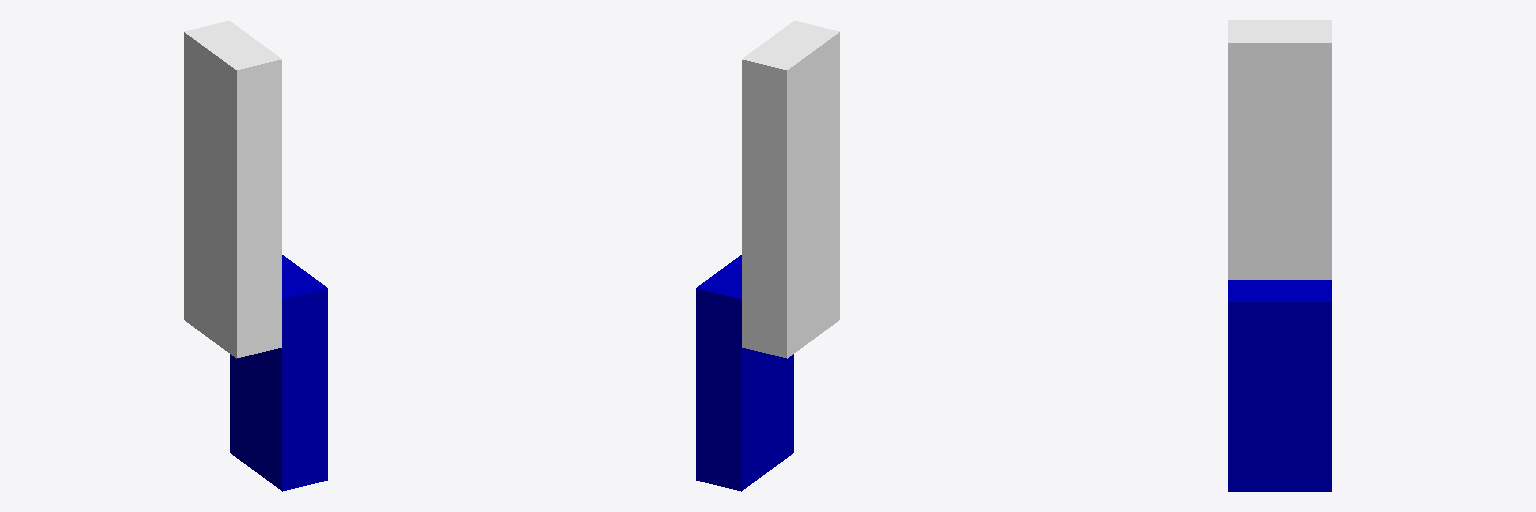
robot.urdf — visual:
<?xml version="1.0"?>
<robot name="visual">
	<material name="blue">
		<color rgba="0 0 0.8 1"/>
	</material>
	<material name="black">
		<color rgba="0 0 0 1"/>
	</material>
	<material name="white">
		<color rgba="1 1 1 1"/>
	</material>

	<link name="base_link">
		<visual>
			<geometry>
				<box size = "0.1 0.2 0.6"/>
			</geometry>
			<origin xyz = "0 0 1"/>
			<material name="white"/>
		</visual>
	</link>
	
	<link name="forearm">
		<visual>
			<geometry>
				<box size = "0.1 0.2 0.4"/>
			</geometry>
			<origin rpy = "0 0 0" xyz = "0 0 -0.15"/>
			<material name = "blue"/>
		</visual>
	</link>

	<joint name="base_to_forearm" type ="revolute">
		<axis xyz = "1 0 0"/>
		<limit effort = "1000.0" lower="0.0" upper="2" velocity = "0.5"/>
		<parent link="base_link"/>
		<child link="forearm"/>
		<origin rpy="0 0 0" xyz = "0.1 0 0.75"/>
	</joint>

</robot>

--- Facts derived from the render (not from the file) ---
The picture shows the robot from 3 angles, left to right: view 1: azimuth 30°, elevation 25°; view 2: azimuth 150°, elevation 25°; view 3: azimuth 270°, elevation 25°; orthographic projection.
Robot: visual — 2 links, 1 joints (1 revolute); root link base_link; default pose: every joint at zero.
Links seen in each view (by area): view 1: base_link, forearm; view 2: base_link, forearm; view 3: base_link, forearm.
Link boxes in pixels (box(x1,y1,x2,y2)): base_link: box(184, 20, 281, 358); forearm: box(230, 255, 327, 491); base_link: box(742, 20, 839, 358); forearm: box(696, 255, 793, 491); base_link: box(1228, 20, 1331, 279); forearm: box(1228, 280, 1331, 491).
Bounding box of the posed robot: 0.2 × 0.2 × 0.9 m (x, y, z).
Geometry: primitives only (box / cylinder / sphere), no mesh files.